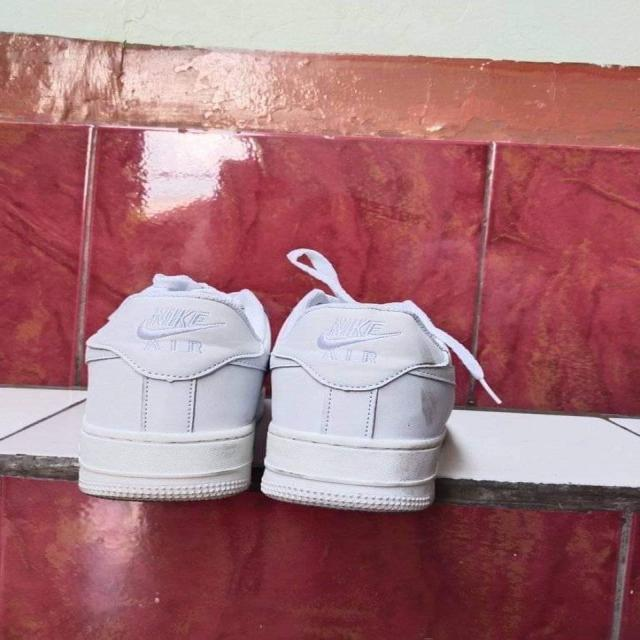nike fake air force: (259, 286, 477, 512), (69, 279, 274, 503)
